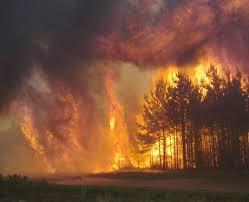fire: (20, 57, 241, 172)
yanwu: (1, 0, 241, 56)
